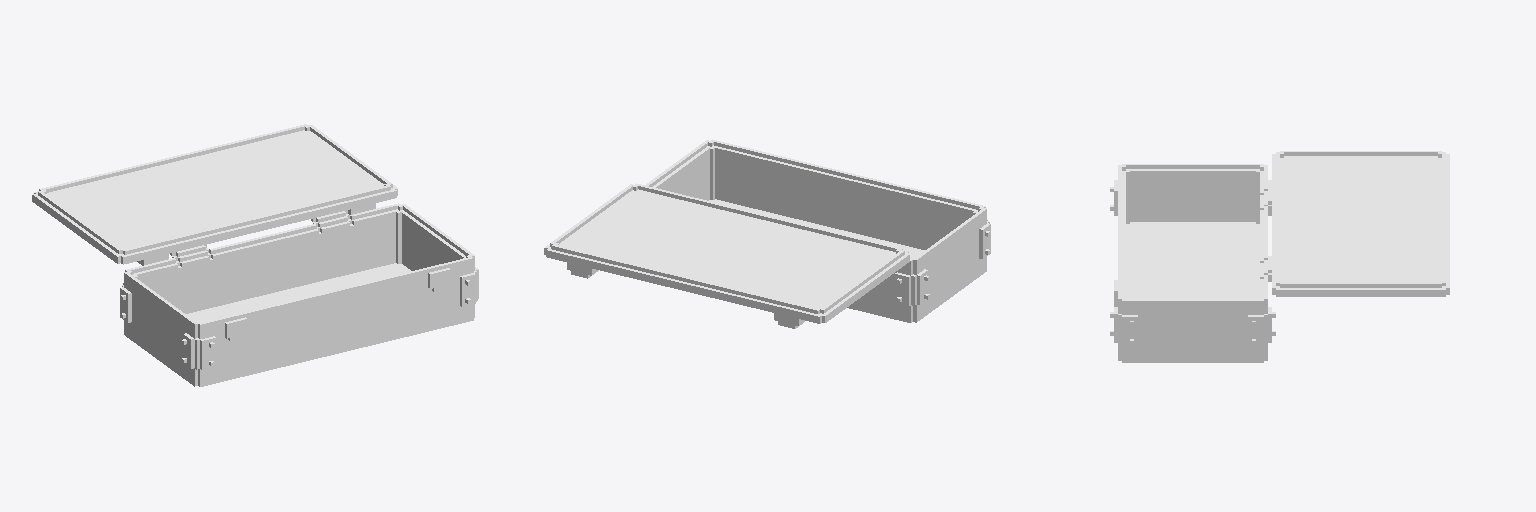
The model's file is WeaponCrateOpen2.obj.
The picture shows the model from 3 angles: view 1: azimuth 30°, elevation 25°; view 2: azimuth 150°, elevation 25°; view 3: azimuth 270°, elevation 25°; orthographic projection.
Bounding box in the file's own units: 84 × 21 × 84.